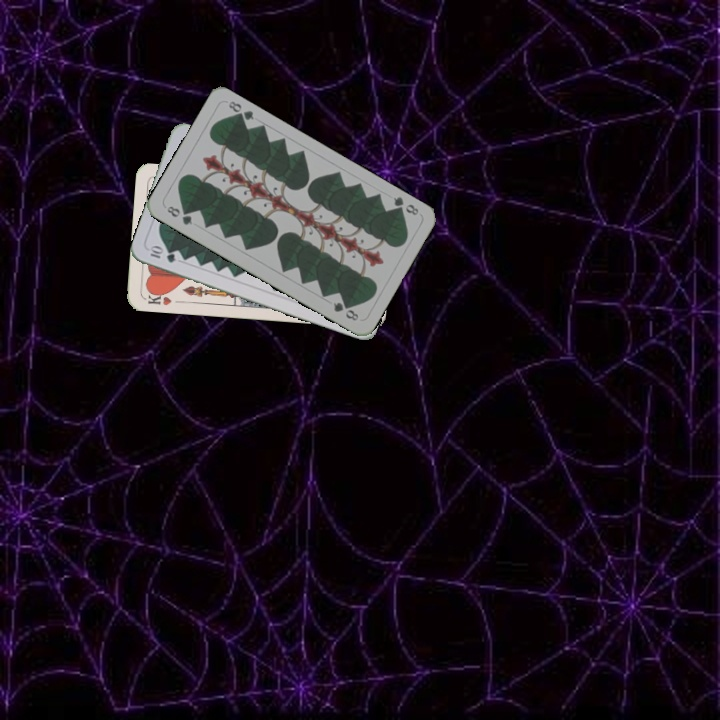G10: (145, 243, 178, 265)
G8: (163, 202, 195, 228), (389, 192, 421, 218)
HK: (141, 287, 174, 308)
